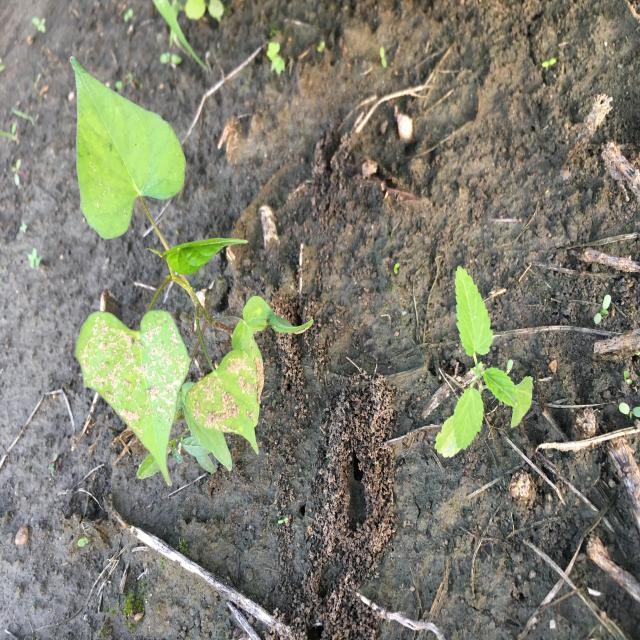MorningGlory: (68, 53, 315, 491)
PricklySida: (432, 263, 534, 459)
